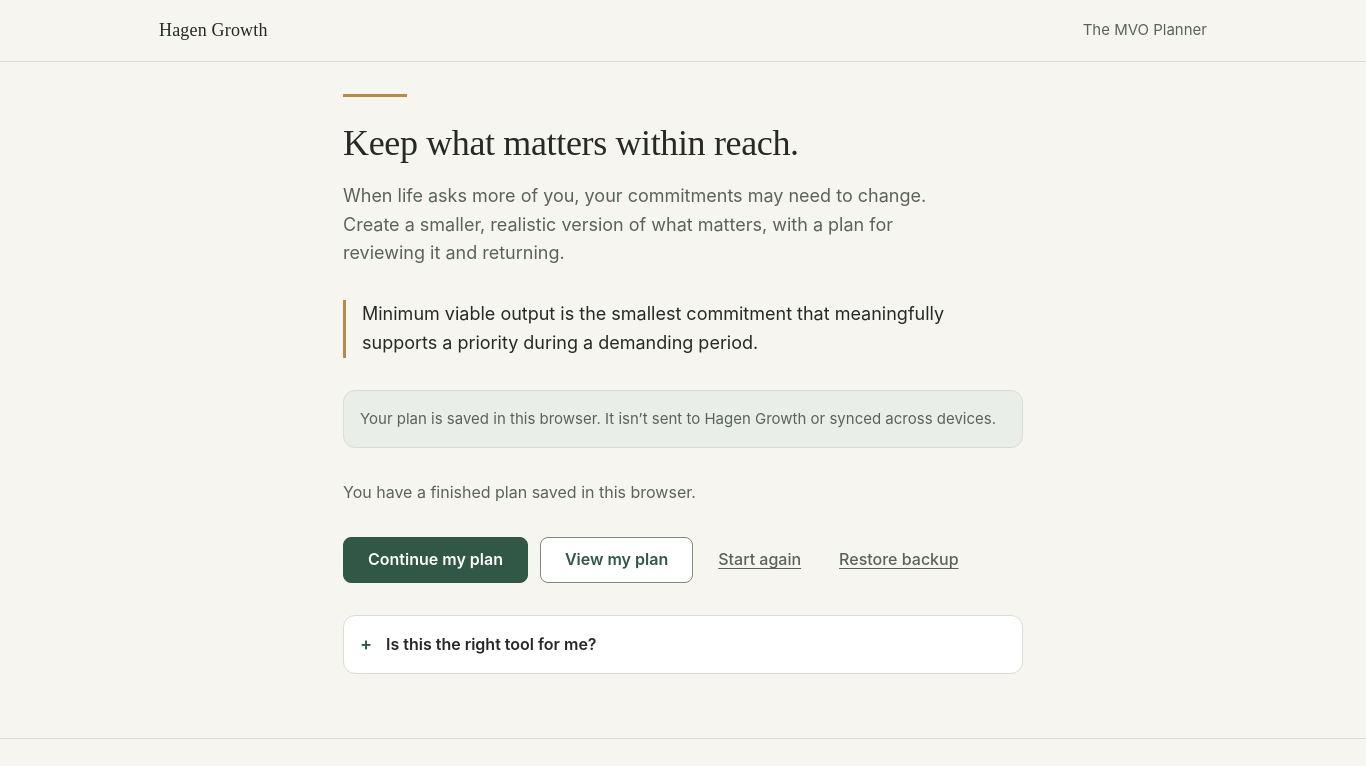
Test: finished plan actions › reports a clipboard failure instead of pretending it worked
What coordinates should you click on to do the following:
click the button "Continue my plan"
I would click on:
 (436, 560)
Its box is [343,537,528,583].
(page scrolled)
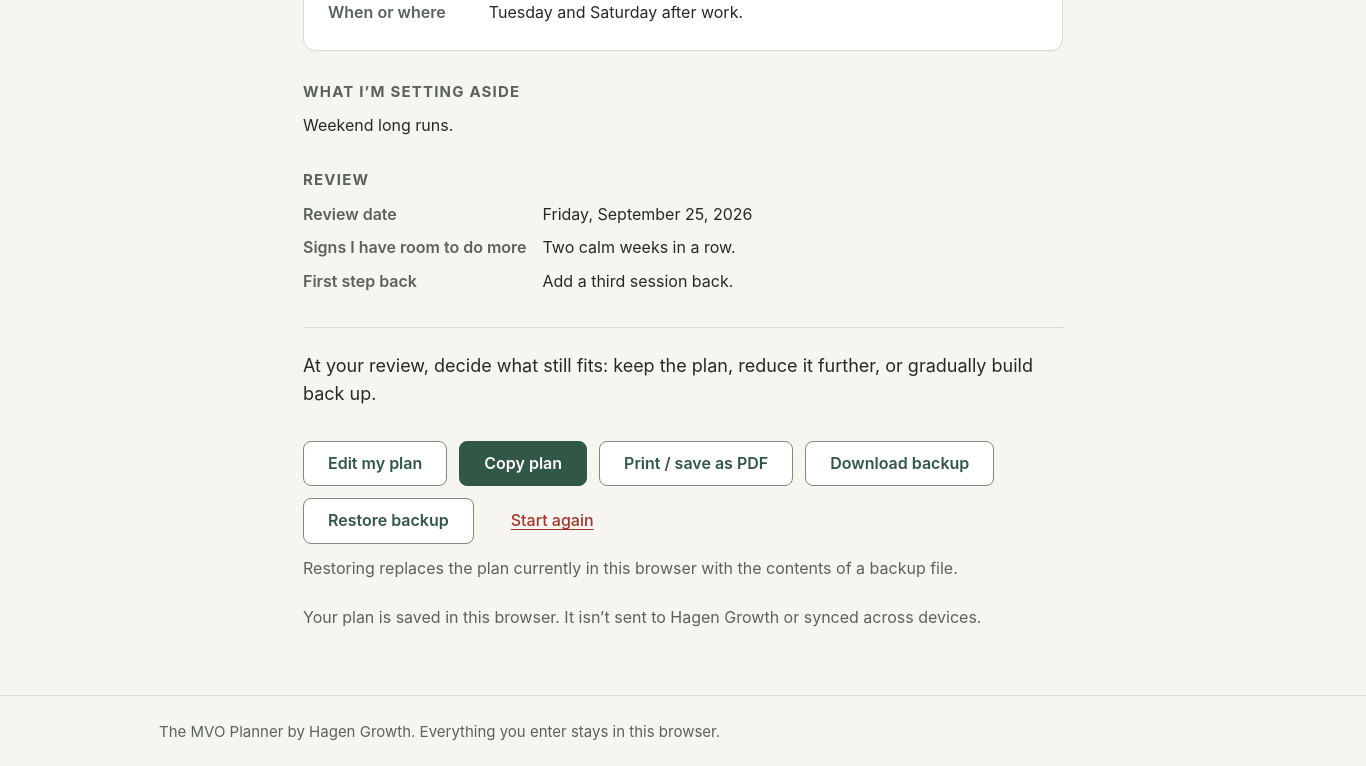
What coordinates should you click on to do the following:
click the button "Copy plan"
I would click on:
 (523, 464)
Its box is [459,441,587,486].
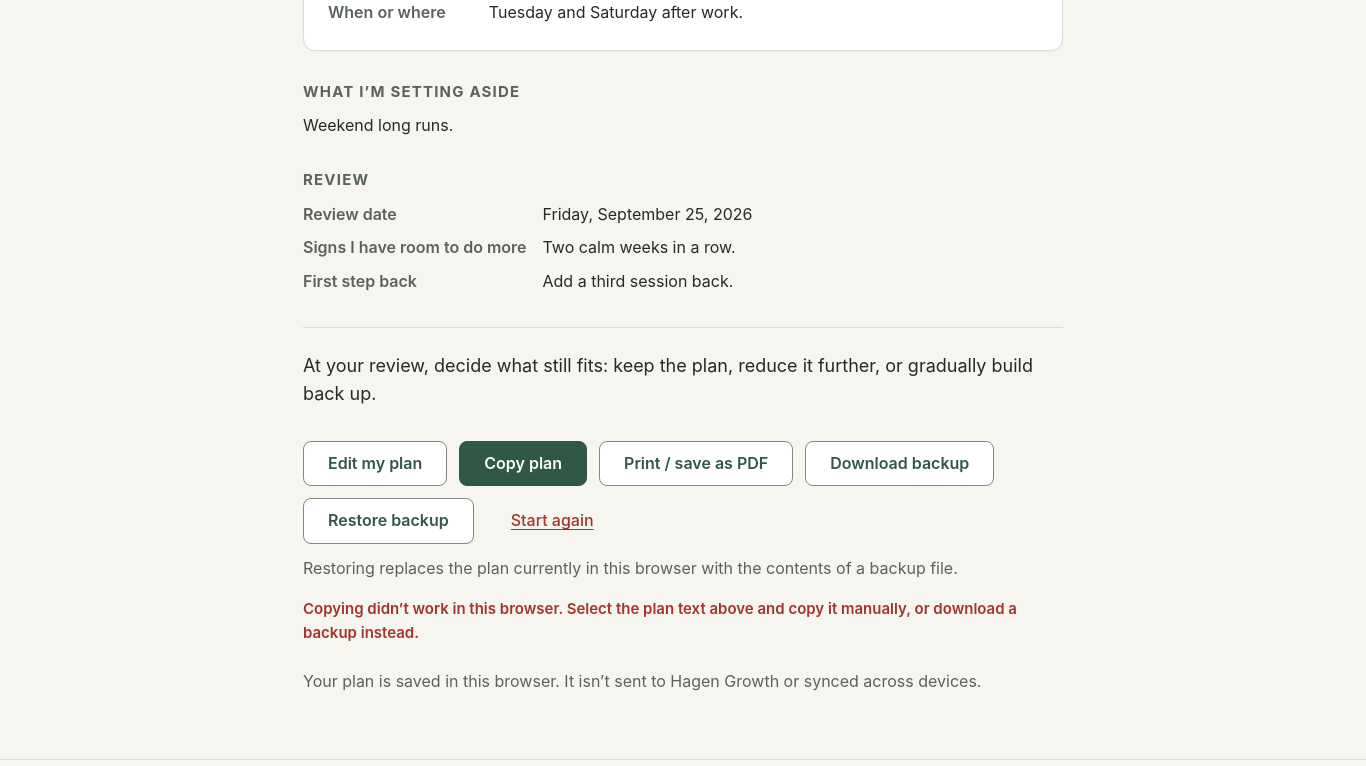
Check: the text "Copying didn’t work in this browser" is shown, box [303,599,1017,642]
